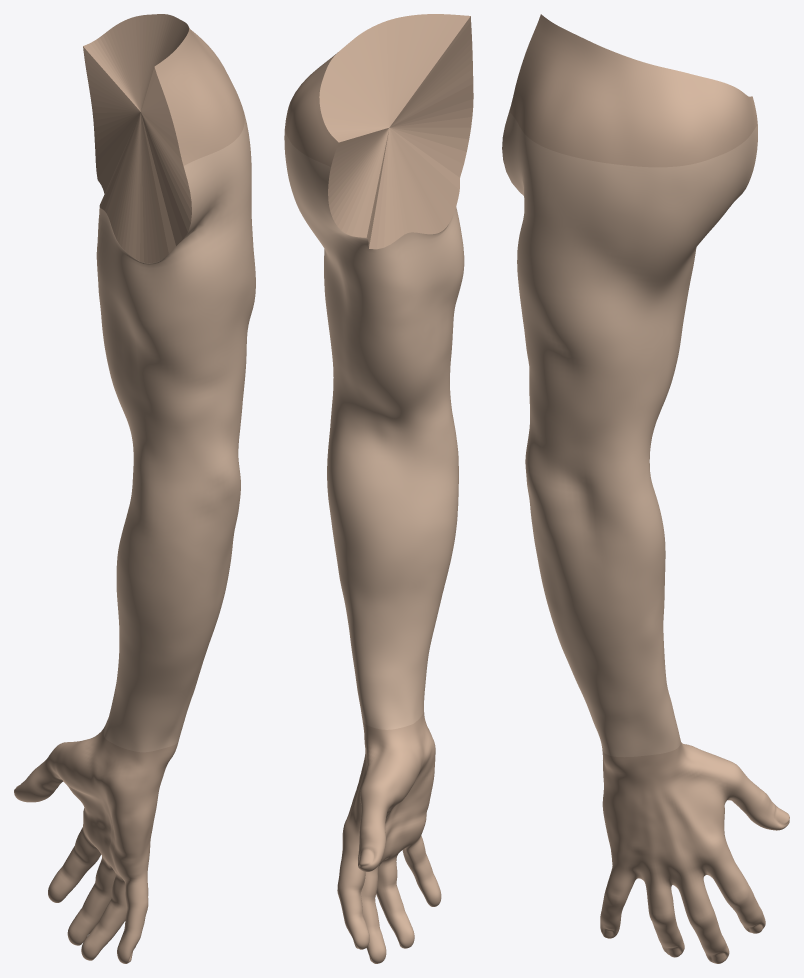
Rendered from right-arm.glb.
3 views of the same model, side by side, from view 1: azimuth 30°, elevation 25°; view 2: azimuth 150°, elevation 25°; view 3: azimuth 270°, elevation 25° (orthographic). The views are drawn at different scales.
Parts seen in each view (by area): view 1: paintable, context; view 2: paintable, context; view 3: paintable, context.
Boxes of the visible parts, x1,y1,x2,y2 form: paintable: [96, 111, 255, 752]; context: [14, 14, 244, 963]; paintable: [284, 129, 464, 729]; context: [285, 14, 473, 963]; paintable: [502, 111, 757, 757]; context: [509, 14, 789, 963].
Size of the model in its own units: 137 by 821 by 226.
